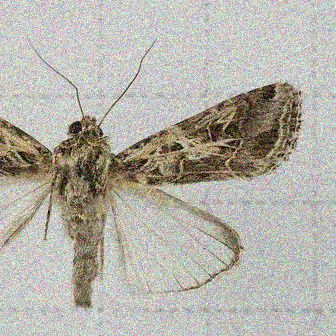Spodoptera litura: (1, 37, 305, 310)
